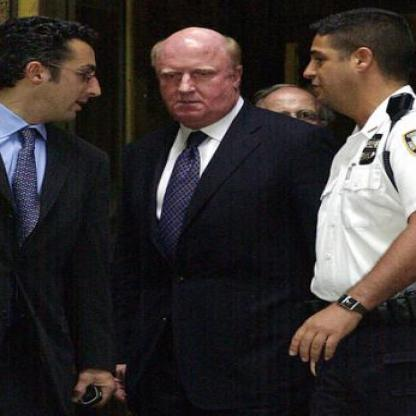face: (31, 25, 118, 123), (157, 30, 237, 121), (292, 18, 363, 112)
